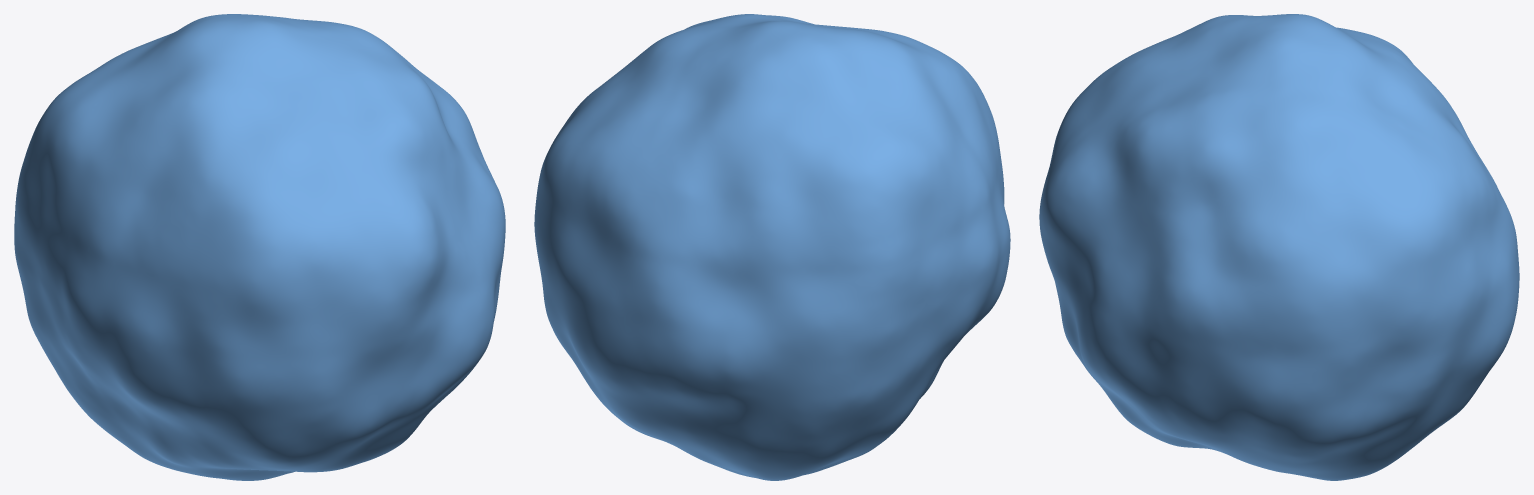
The model's file is lunaPiscis.glb.
The picture shows the model from 3 angles, left to right: view 1: azimuth 30°, elevation 25°; view 2: azimuth 150°, elevation 25°; view 3: azimuth 270°, elevation 25°; orthographic projection. The views are drawn at different scales.
Visible parts, largest first — view 1: lunapiscis; view 2: lunapiscis; view 3: lunapiscis.
Boxes of the visible parts, left/top/right/bottom form: lunapiscis: left=14, top=14, right=505, bottom=480; lunapiscis: left=534, top=14, right=1010, bottom=480; lunapiscis: left=1039, top=14, right=1519, bottom=480.
Size of the model in its own units: 0.5622 by 0.5648 by 0.579.
